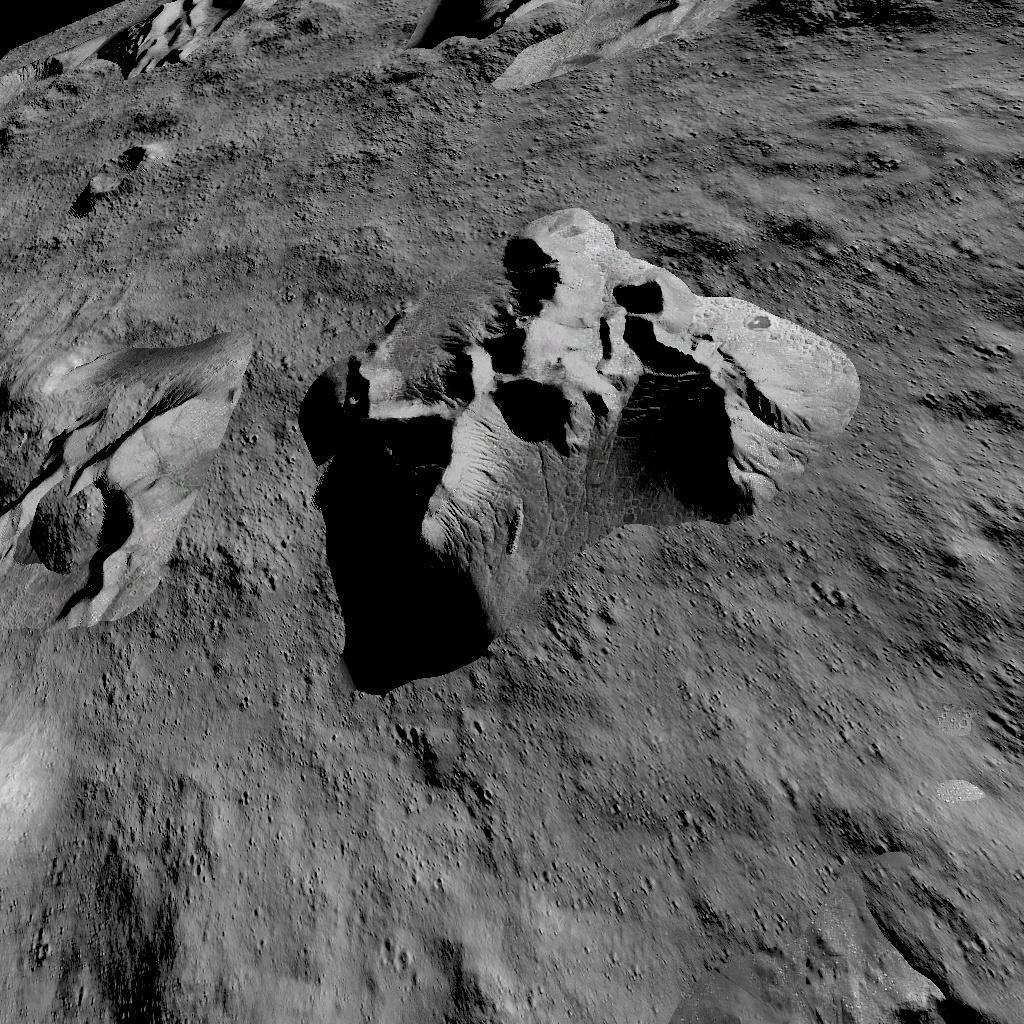Boulders: (290, 206, 864, 698), (396, 0, 938, 111), (95, 0, 291, 83)
Crater: (0, 360, 227, 666), (74, 136, 188, 218), (0, 46, 89, 126)
Plan surface: (9, 731, 1024, 1024), (877, 147, 1024, 703), (0, 240, 266, 336), (200, 94, 384, 189)
